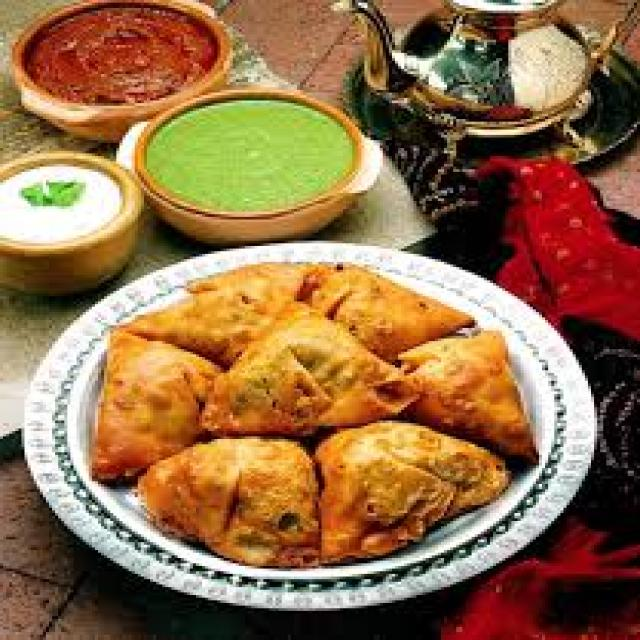SAMOSA: (96, 266, 533, 567), (121, 269, 523, 538)
